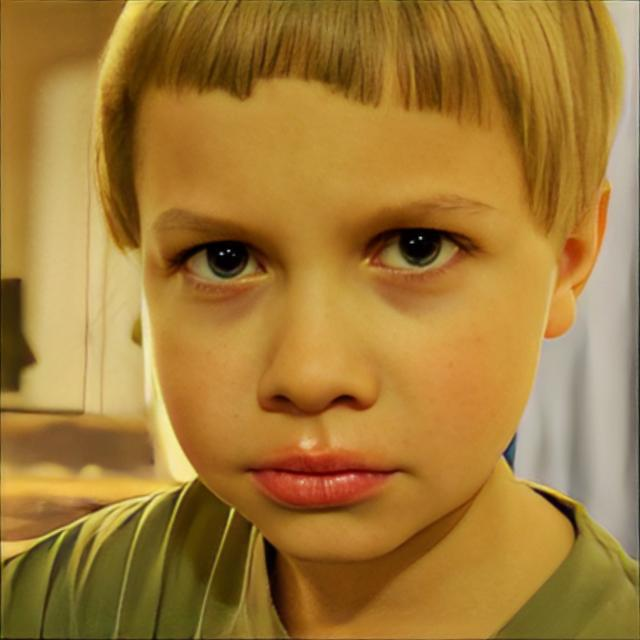anger: (143, 49, 548, 566)
